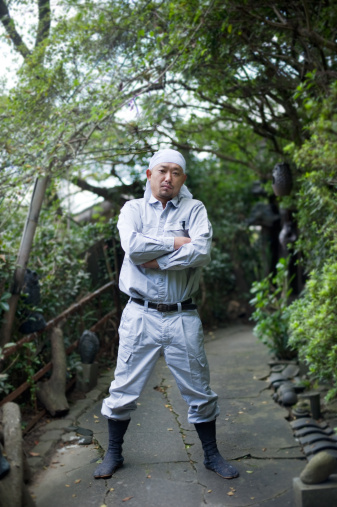em pe: (88, 131, 221, 468)
